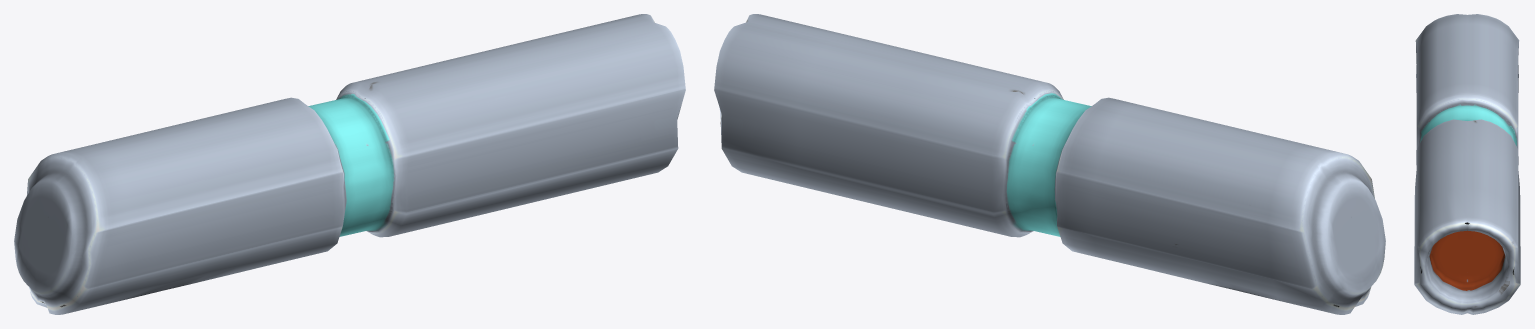
File: gun.fbx
The picture shows the model from 3 angles, left to right: view 1: azimuth 30°, elevation 25°; view 2: azimuth 150°, elevation 25°; view 3: azimuth 270°, elevation 25°; orthographic projection. The views are drawn at different scales.
Visible parts, largest first — view 1: Gun; view 2: Gun; view 3: Gun.
Boxes of the visible parts, x1,y1,x2,y2 form: Gun: (14,14,685,314); Gun: (714,14,1385,314); Gun: (1414,14,1520,314).
Bounding box in the file's own units: 68.86 × 13.93 × 15.32.
